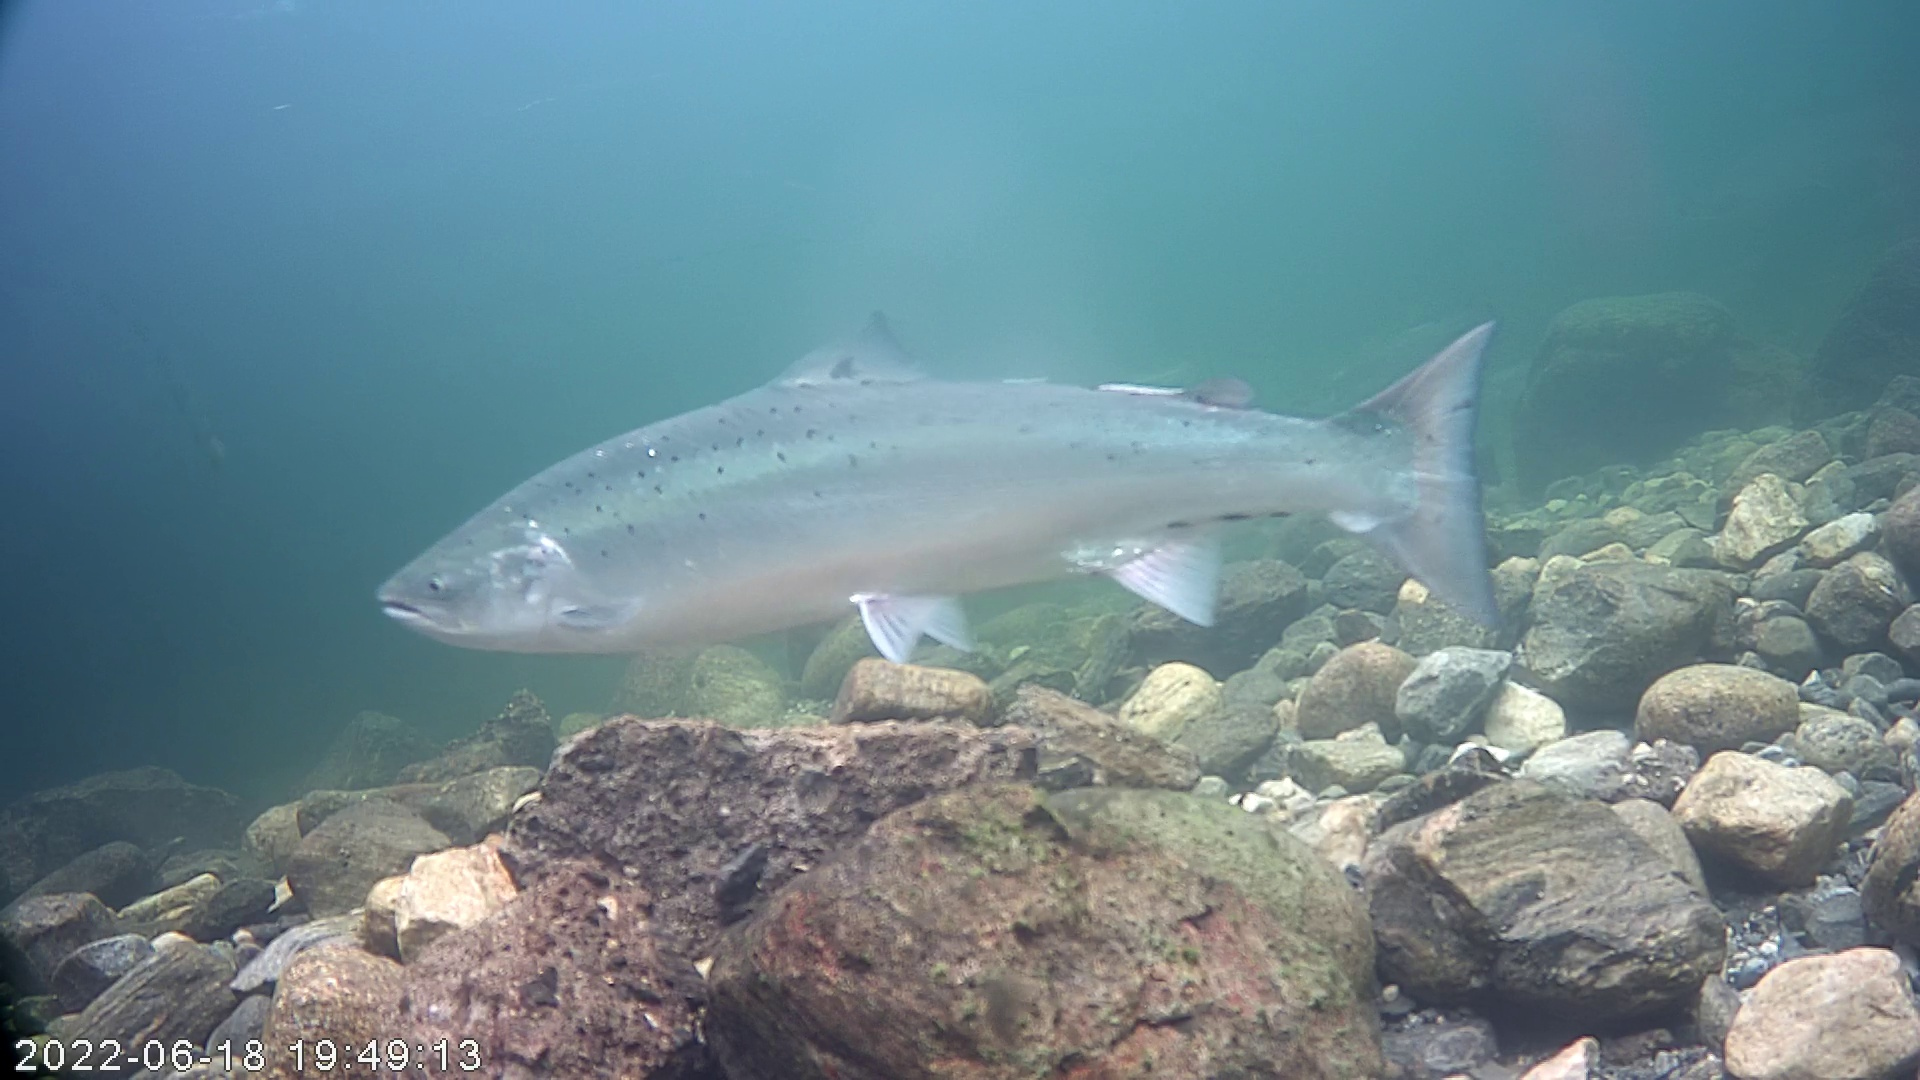salmon: (375, 305, 1498, 673)
